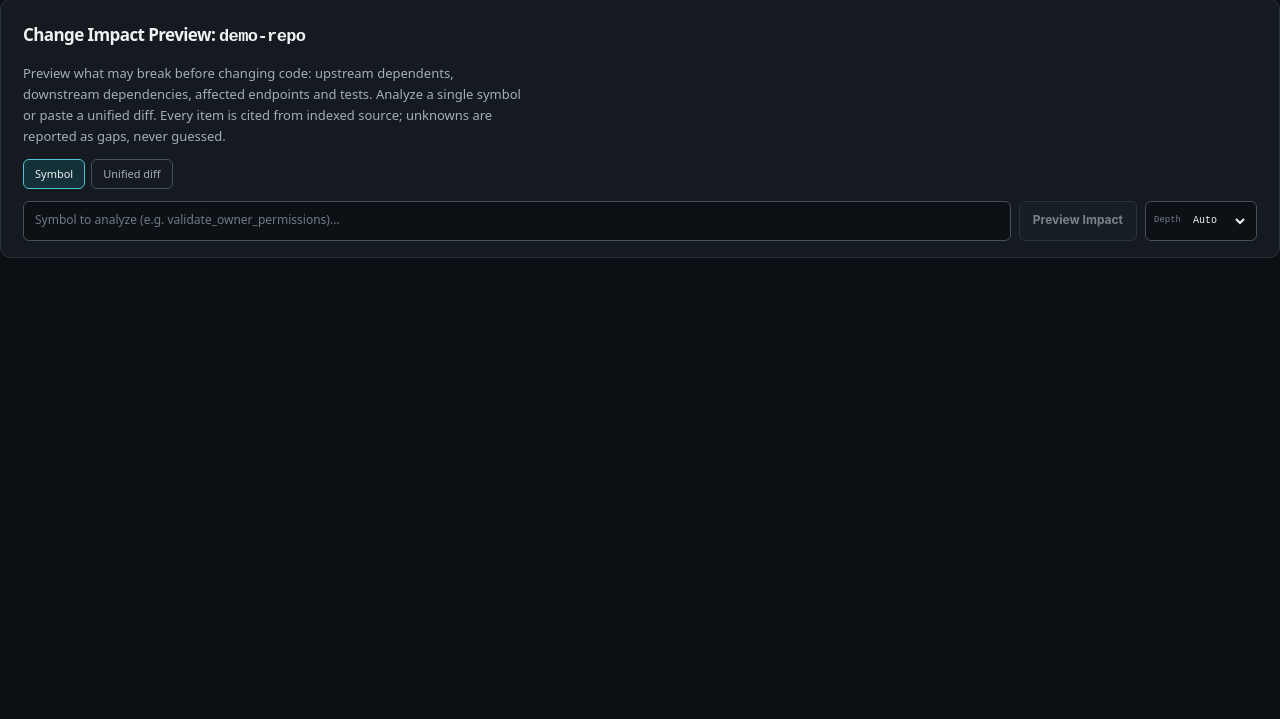
Test: ImpactPanel › re-requests with explain mode and renders the grounded narration
Type "load_stats" into the field named "Impact target symbol" at (517, 220), box 23,200 -> 1011,240
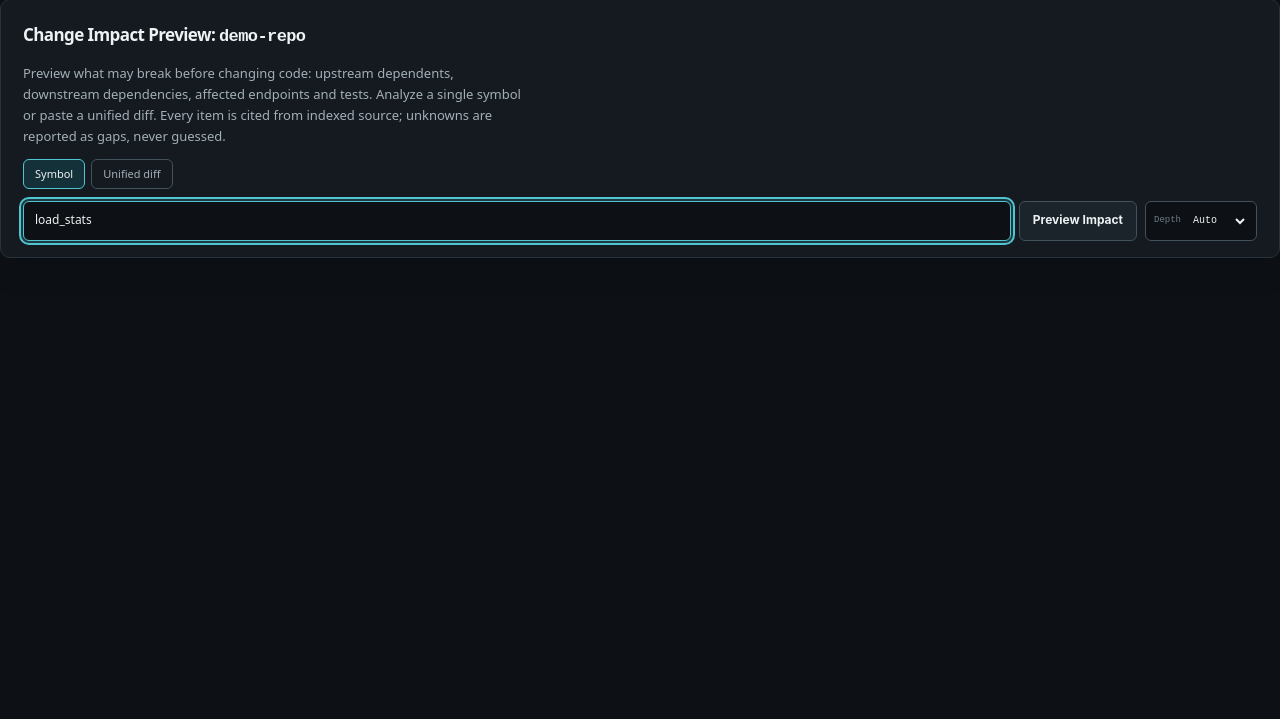
Click the button "Preview Impact" at (1078, 220), box 1019,200 -> 1137,240
(page scrolled)
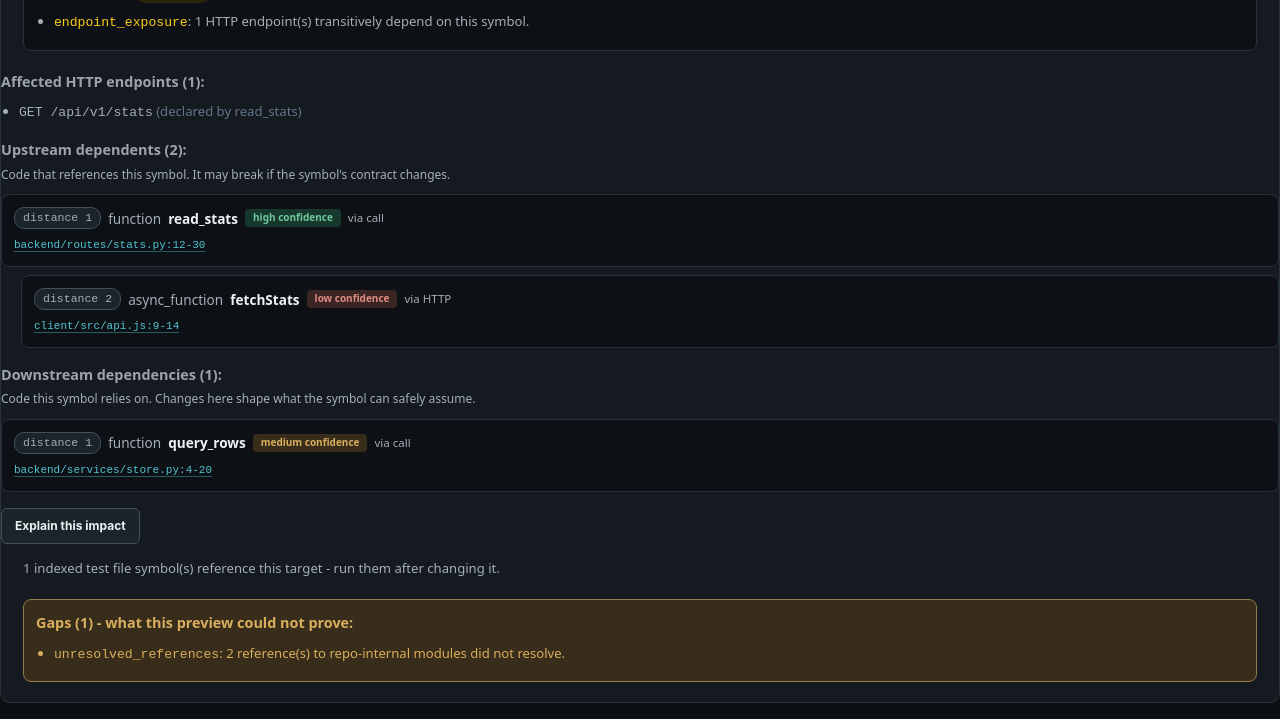
Click the button "Explain this impact" at (70, 526), box 1,508 -> 140,544
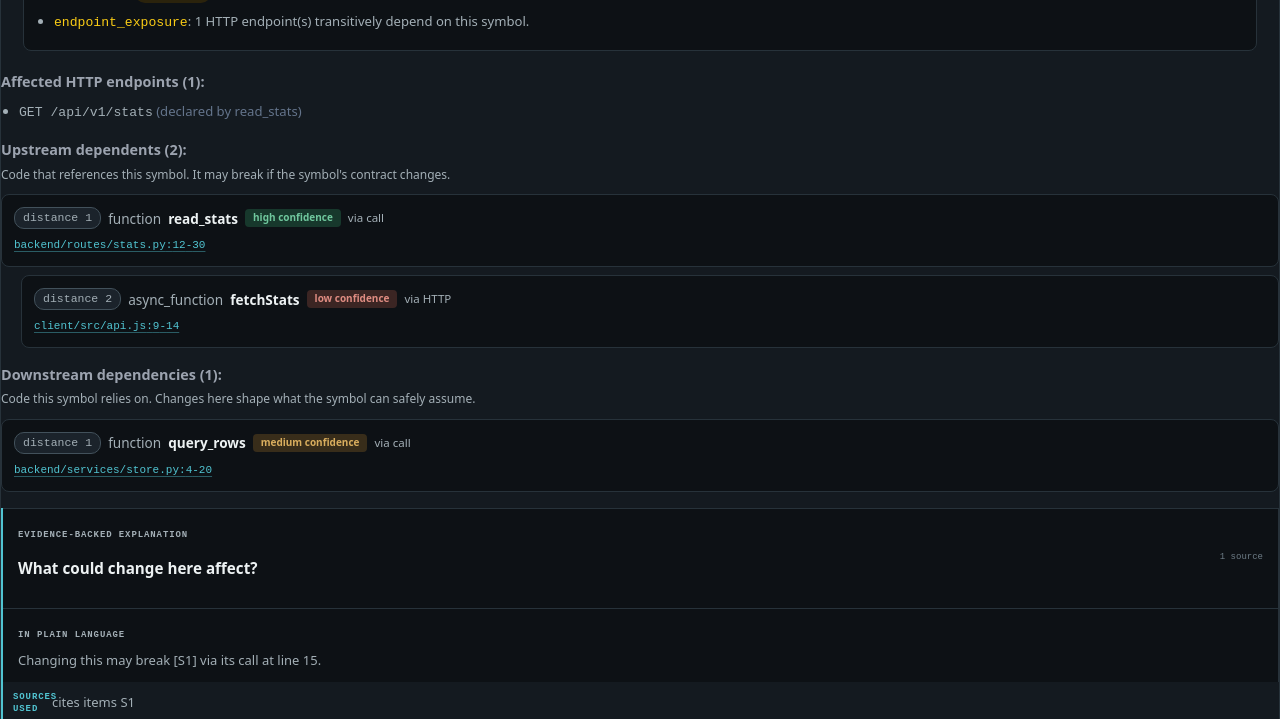
Expected: the text "Changing this may break [S1] via its call at line 15." is shown, 18,651 -> 321,669
Expected: the text "cites items S1" is shown, 52,693 -> 135,711
Expected: the button "Explain this impact" is gone
